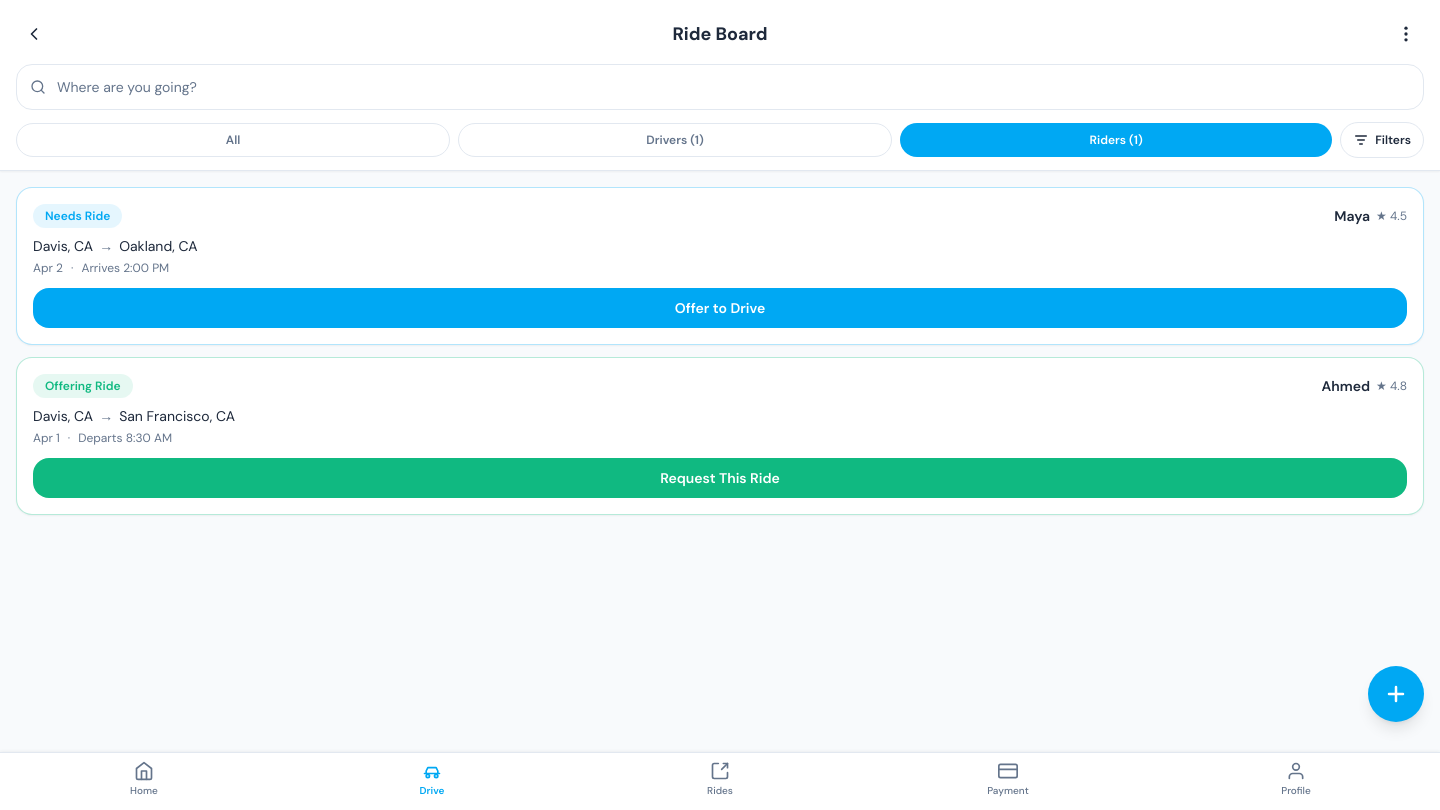
Test: RideBoard › sends POST via confirmation sheet and shows success message
The width and height of the screenshot is (1440, 810).
Click contact button to open confirmation sheet
Step 1. Click the button "Request This Ride" → x=720, y=478, box [33,458,1407,498]
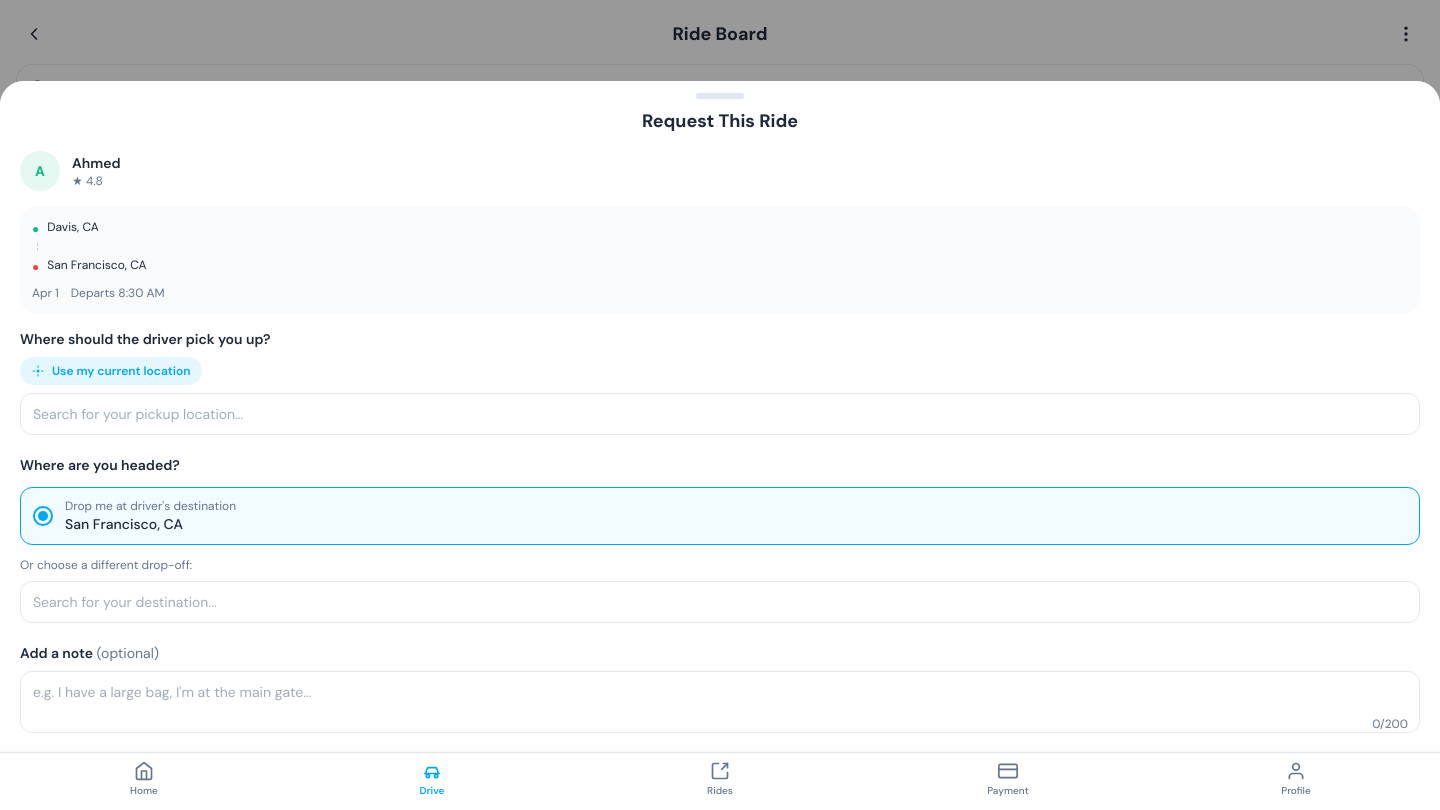
Now the element with test id "confirm-sheet" is shown
Fill in pickup
Step 2. Type "Test" into the field with test id "pickup-search" → x=720, y=414, box [20,393,1420,435]
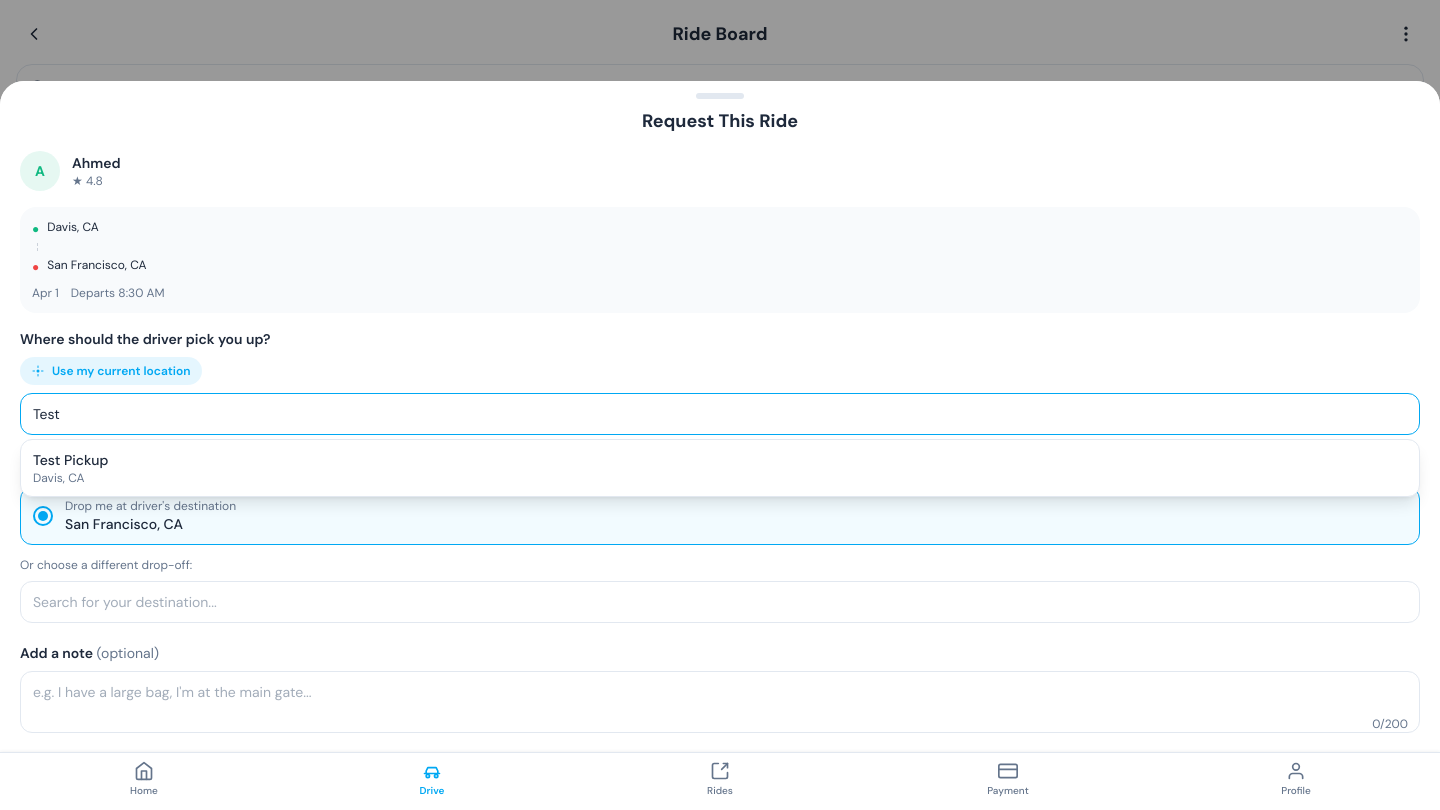
Now the button with test id "pickup-suggestion" is shown
Step 3. Click the button with test id "pickup-suggestion" → x=71, y=460, box [21,440,1419,496]
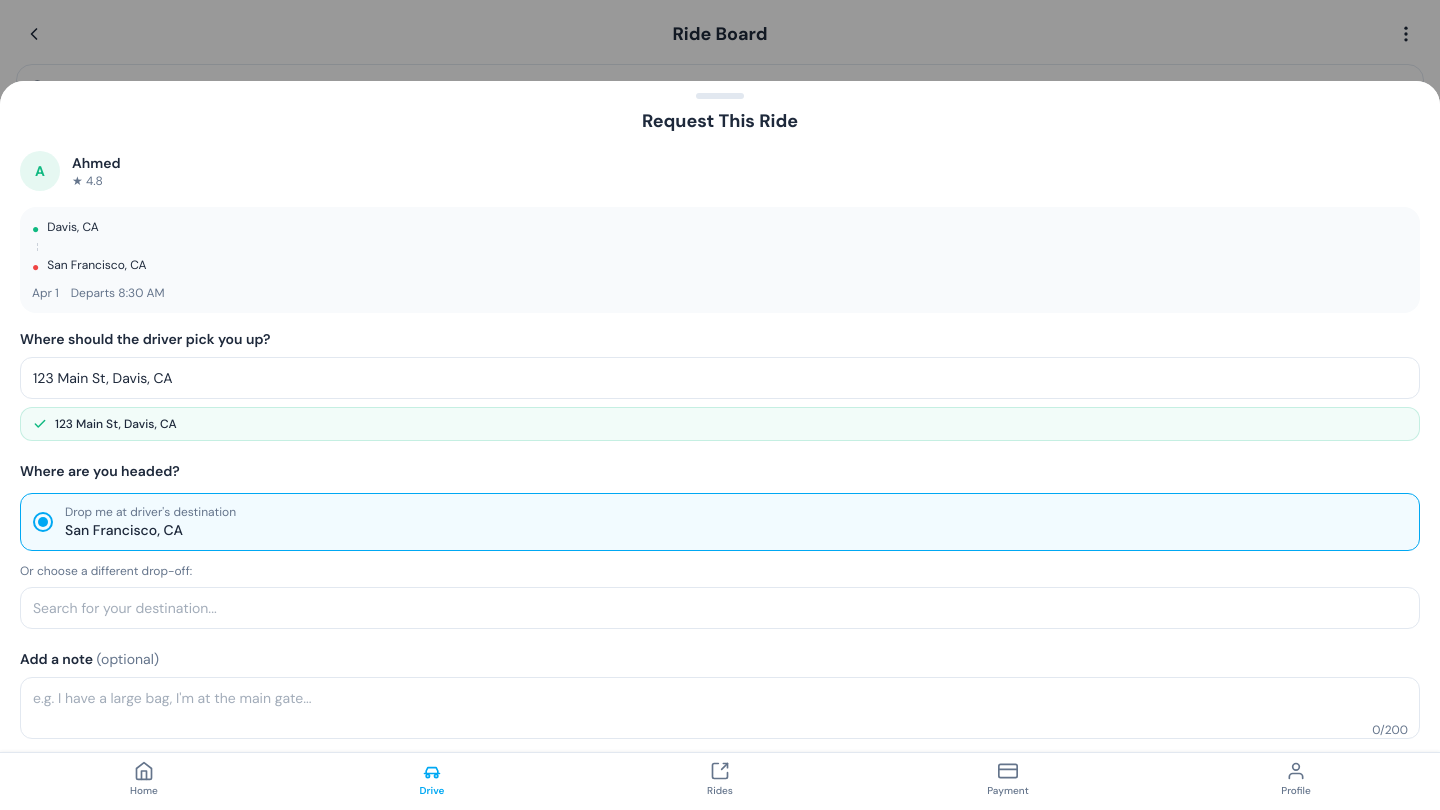
Fill in destination
Step 4. Type "Test" into the field with test id "destination-search" → x=720, y=608, box [20,587,1420,629]
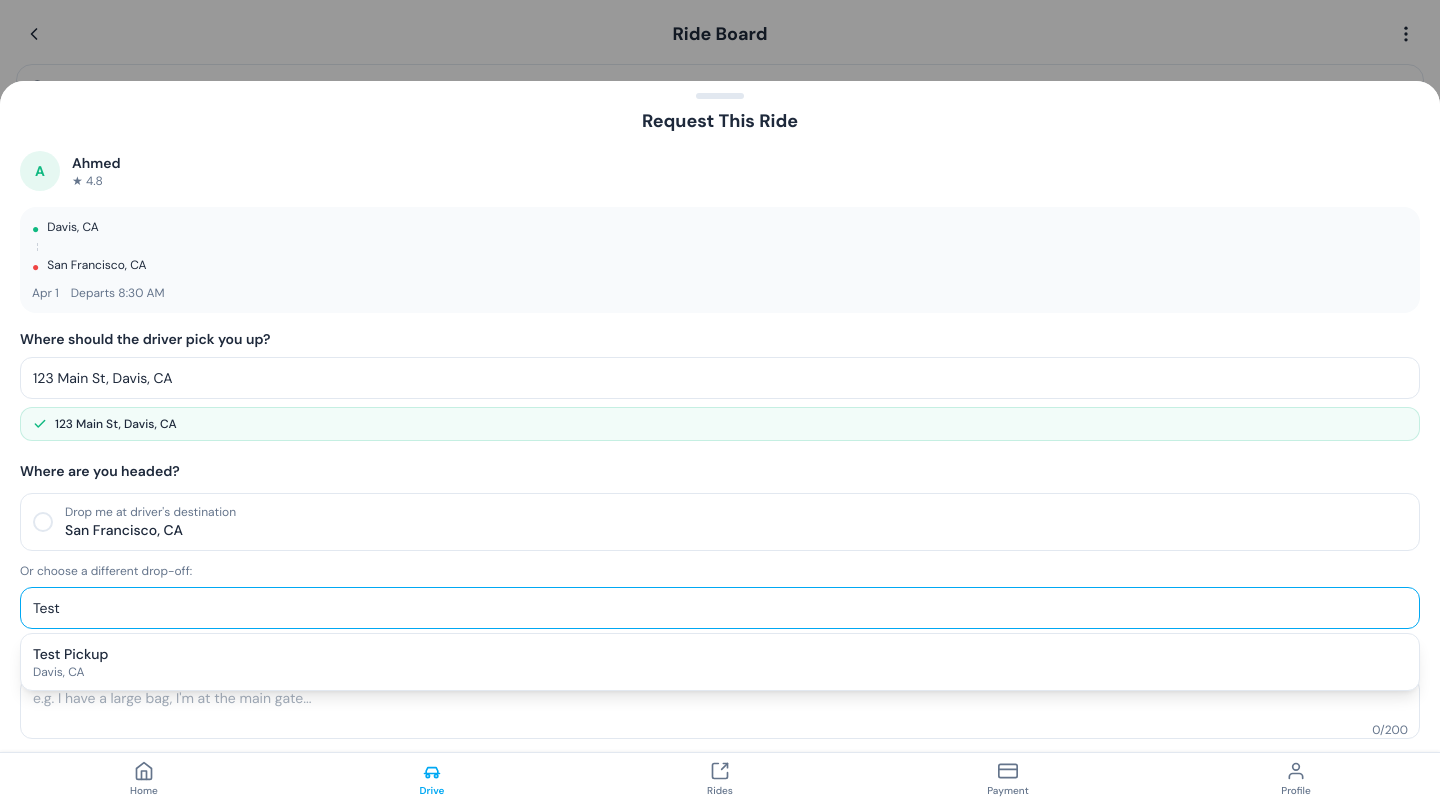
Now the button with test id "place-suggestion" is shown
Step 5. Click the button with test id "place-suggestion" → x=71, y=654, box [21,634,1419,690]
(page scrolled)
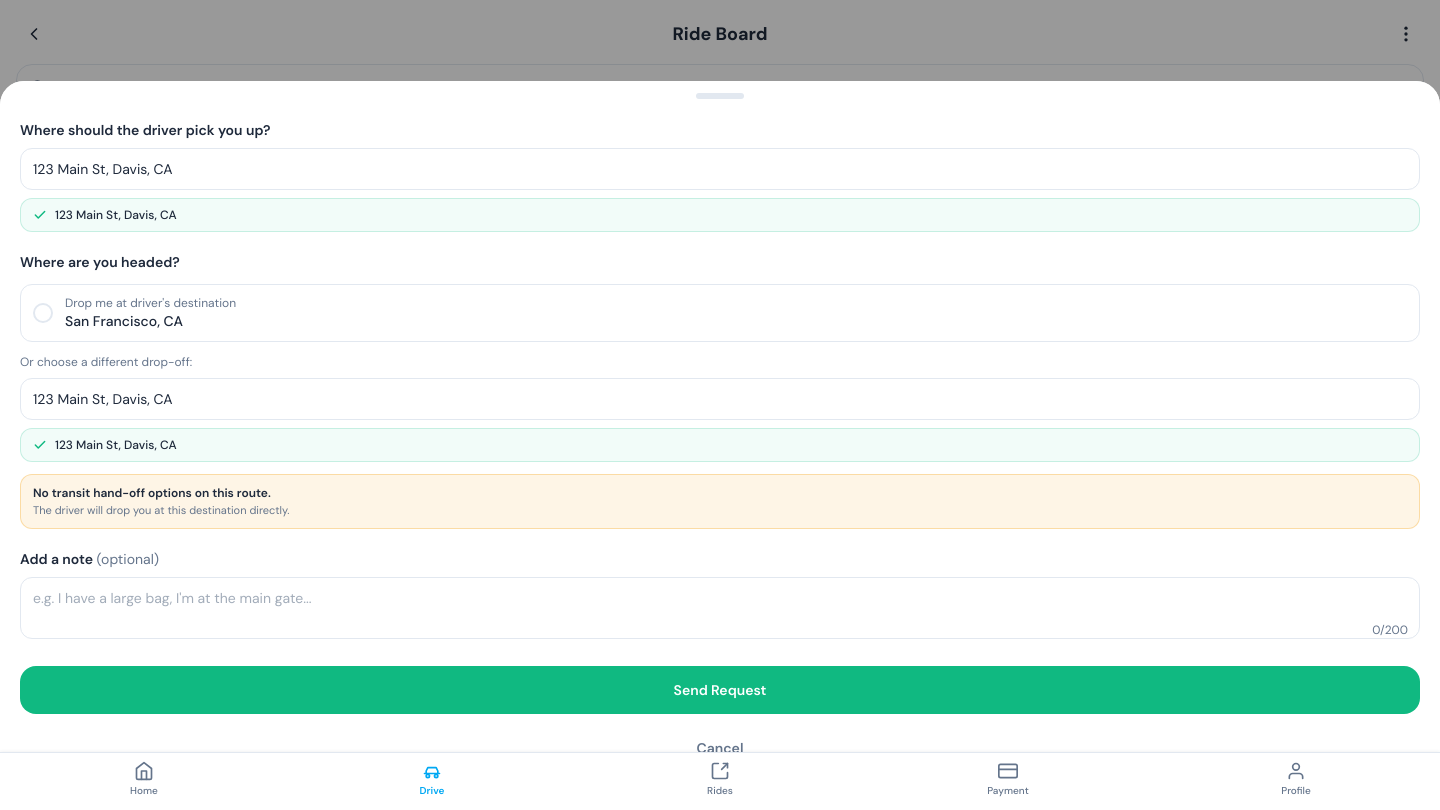
Click "Send Request" in the confirmation sheet
Step 6. Click the button with test id "confirm-send-button" → x=720, y=690, box [20,666,1420,714]
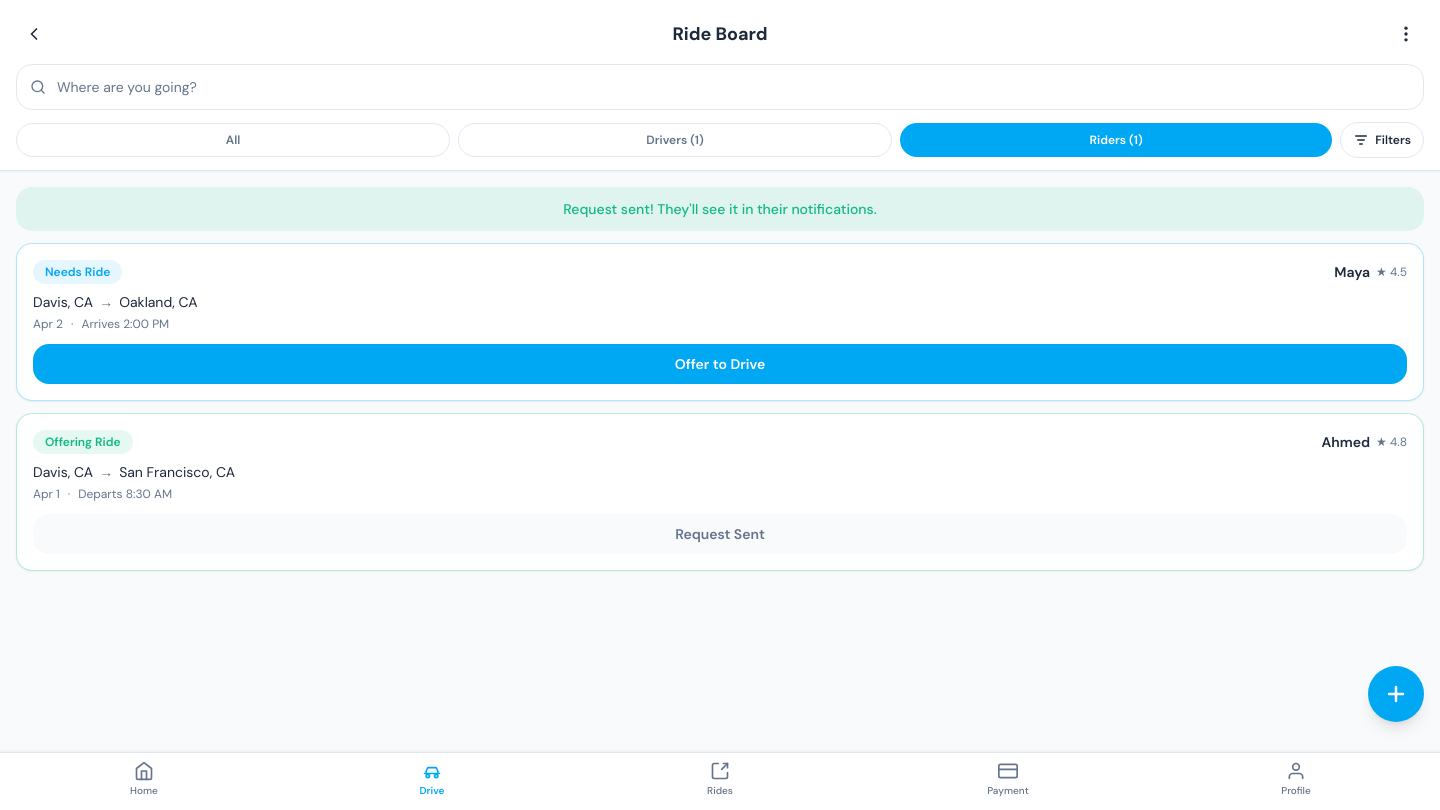
Now the element with test id "success-message" is shown, box [16,187,1424,231]
